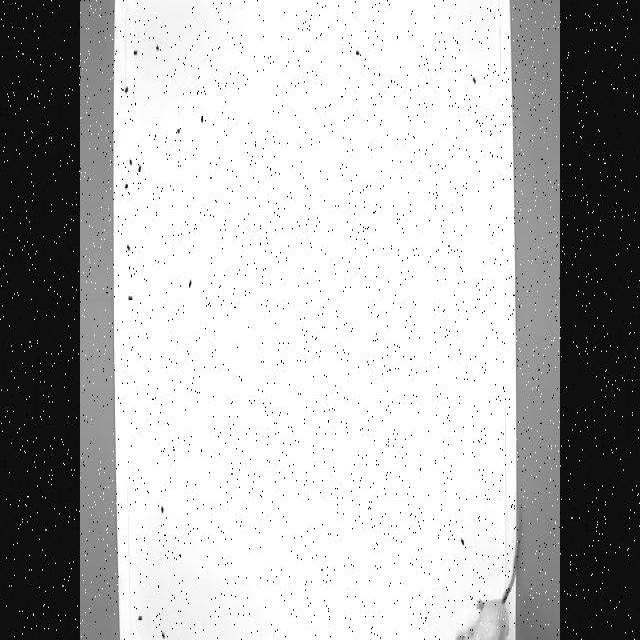rat: (451, 484, 525, 640)
